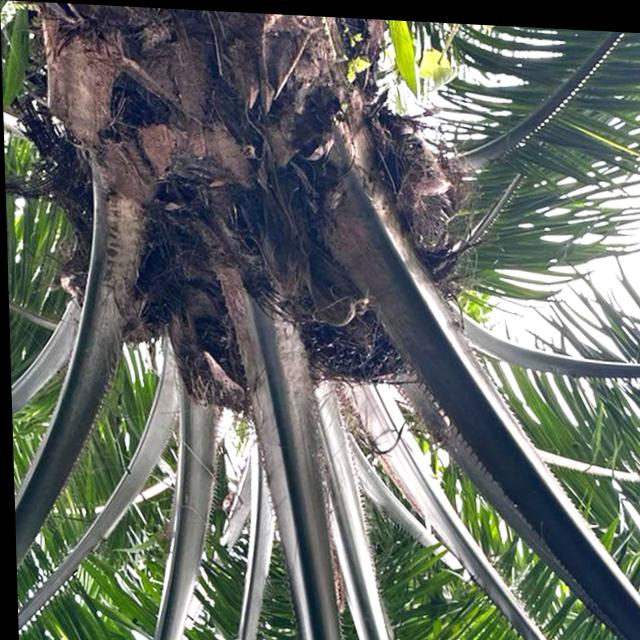ripe: (288, 292, 421, 412)
